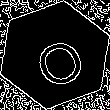O_N: (24, 23, 86, 87)
